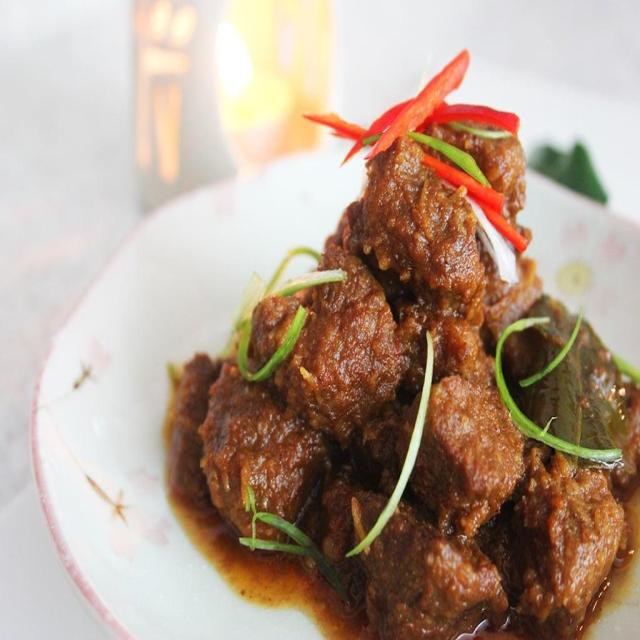Rendang: (172, 98, 640, 639)
